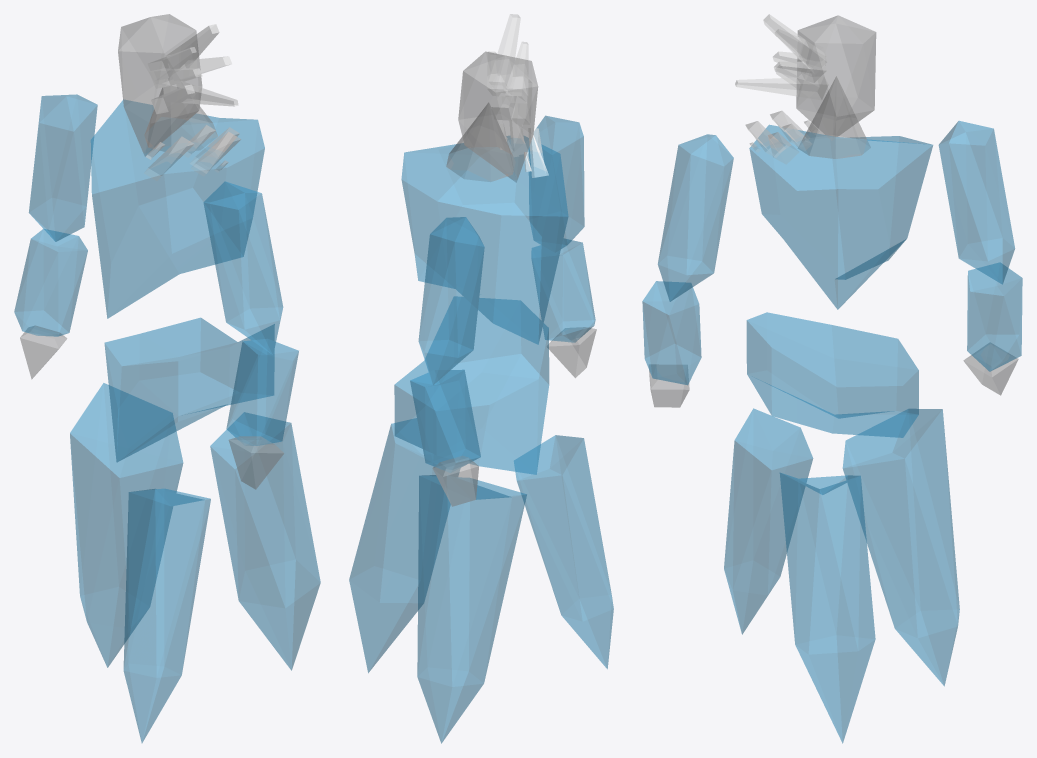
Rendered from ghostIdle25.obj.
3 views of the same model, side by side, from view 1: azimuth 30°, elevation 25°; view 2: azimuth 150°, elevation 25°; view 3: azimuth 270°, elevation 25° (orthographic). The views are drawn at different scales.
Visible parts, largest first — view 1: Cube.001_Cube.001, Icosphere.005, Icosphere.004, Cube_Cube.002, Icosphere.003, Icosphere.005_Icosphere.001, Icosphere.003_Icosphere.001, Icosphere.007_Icosphere.001, Icosphere.008_Icosphere.001, Icosphere.006_Icosphere.001, Cone_Cone.002, Cube.002_Cube.001 (+10 smaller); view 2: Cube.001_Cube.001, Cube_Cube.002, Icosphere.005, Icosphere.004, Icosphere.003, Icosphere.007_Icosphere.001, Icosphere.003_Icosphere.001, Icosphere.005_Icosphere.001, Icosphere.008_Icosphere.001, Icosphere.006_Icosphere.001, Cone_Cone.002, Cube.003_Cube.001 (+5 smaller); view 3: Cube.001_Cube.001, Icosphere.005, Icosphere.004, Cube_Cube.002, Icosphere.003, Icosphere.005_Icosphere.001, Icosphere.007_Icosphere.001, Icosphere.003_Icosphere.001, Icosphere.006_Icosphere.001, Icosphere.008_Icosphere.001, Cone_Cone.002, Cube.003_Cube.001 (+4 smaller).
Part boxes in pixels (box(x1,y1,x2,y2)): Cube.001_Cube.001: box(90, 100, 264, 318); Icosphere.005: box(70, 383, 183, 667); Icosphere.004: box(210, 412, 320, 670); Cube_Cube.002: box(104, 317, 274, 462); Icosphere.003: box(123, 488, 210, 742); Icosphere.005_Icosphere.001: box(203, 181, 283, 354); Icosphere.003_Icosphere.001: box(118, 14, 202, 156); Icosphere.007_Icosphere.001: box(29, 94, 97, 241); Icosphere.008_Icosphere.001: box(14, 229, 87, 336); Icosphere.006_Icosphere.001: box(226, 339, 298, 445); Cone_Cone.002: box(145, 88, 217, 151); Cube.002_Cube.001: box(228, 436, 283, 489); Cube.001_Cube.001: box(401, 136, 568, 344); Cube_Cube.002: box(394, 296, 549, 474); Icosphere.005: box(417, 474, 526, 743); Icosphere.004: box(349, 418, 459, 672); Icosphere.003: box(514, 435, 613, 668); Icosphere.007_Icosphere.001: box(418, 217, 484, 384); Icosphere.003_Icosphere.001: box(458, 51, 538, 182); Icosphere.005_Icosphere.001: box(529, 115, 584, 252); Icosphere.008_Icosphere.001: box(410, 369, 480, 472); Icosphere.006_Icosphere.001: box(531, 239, 595, 342); Cone_Cone.002: box(446, 102, 512, 181); Cube.003_Cube.001: box(432, 456, 478, 506); Cube.001_Cube.001: box(749, 124, 932, 309); Icosphere.005: box(842, 409, 959, 686); Icosphere.004: box(779, 472, 875, 743); Cube_Cube.002: box(746, 312, 918, 437); Icosphere.003: box(724, 408, 813, 634); Icosphere.005_Icosphere.001: box(658, 134, 733, 301); Icosphere.007_Icosphere.001: box(938, 121, 1014, 284); Icosphere.003_Icosphere.001: box(796, 15, 876, 136); Icosphere.006_Icosphere.001: box(642, 281, 701, 385); Icosphere.008_Icosphere.001: box(967, 263, 1022, 371); Cone_Cone.002: box(798, 76, 870, 158); Cube.003_Cube.001: box(963, 342, 1018, 395).
Bounding box in the file's own units: 16.62 × 49.43 × 25.15.
